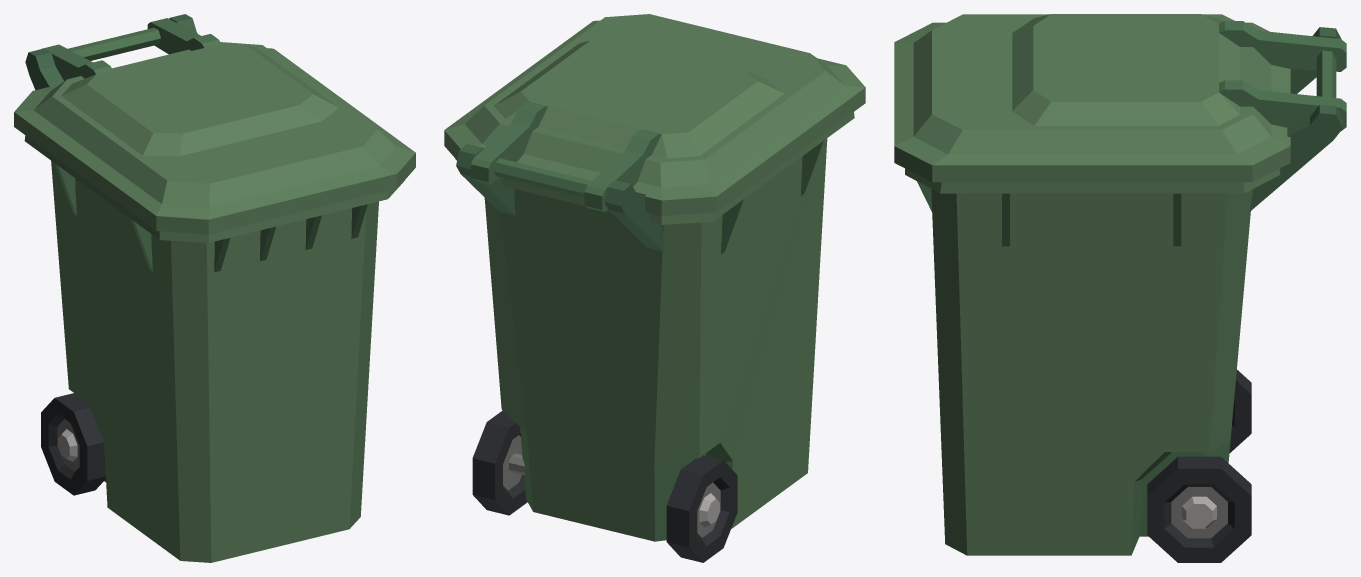
The model's file is WheelieBin.obj.
The picture shows the model from 3 angles, left to right: view 1: azimuth 30°, elevation 25°; view 2: azimuth 150°, elevation 25°; view 3: azimuth 270°, elevation 25°; orthographic projection. The views are drawn at different scales.
Size of the model in its own units: 0.7467 by 1.1 by 1.
Materials: 1 (1 with a texture image).
